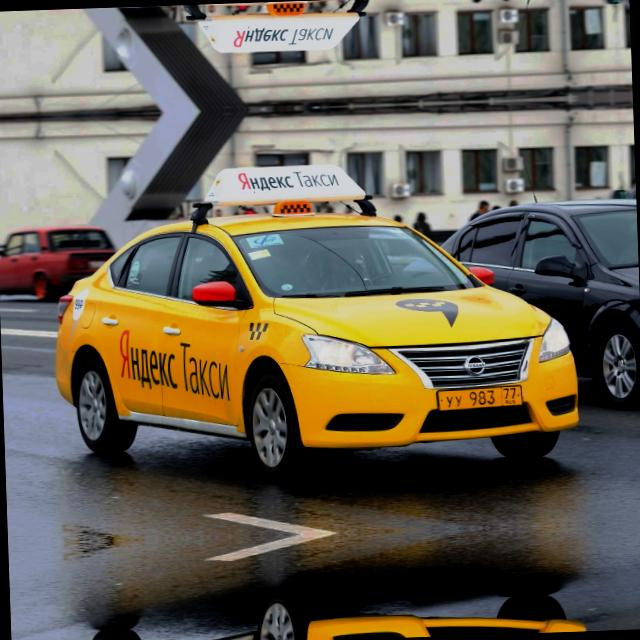taxi: (433, 382, 529, 412)
